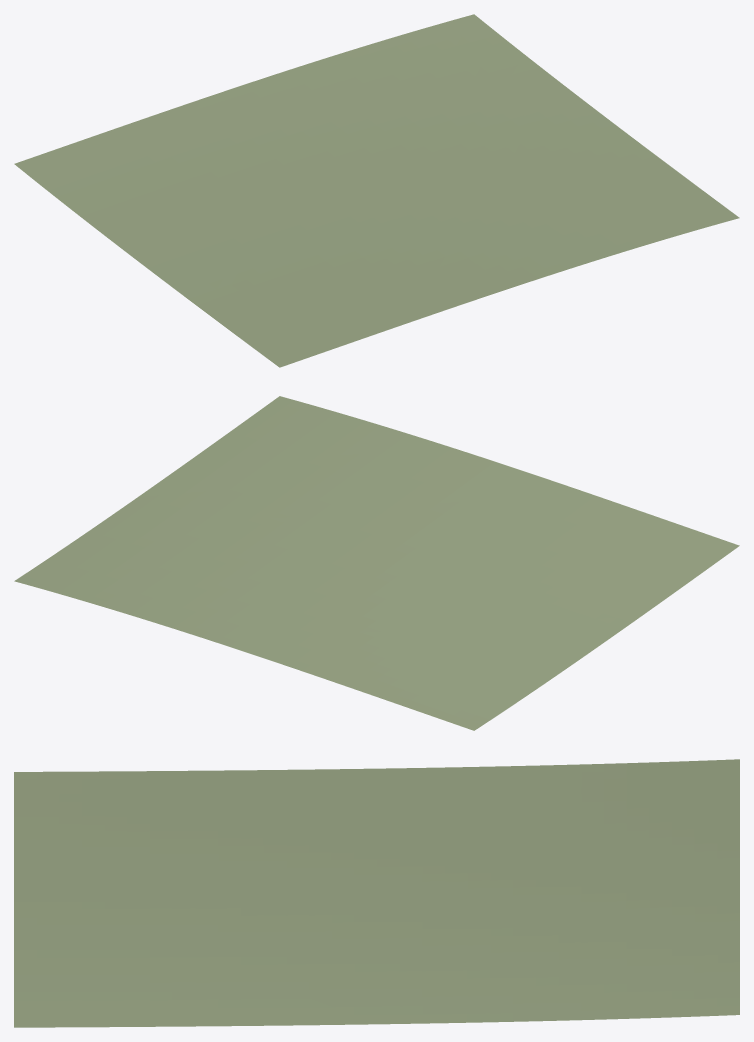
Rendered from valley-1-4.glb.
3 views of the same model, one above another, from view 1: azimuth 30°, elevation 25°; view 2: azimuth 150°, elevation 25°; view 3: azimuth 270°, elevation 25° (orthographic). The views are drawn at different scales.
Parts seen in each view (by area): view 1: valley-1-4; view 2: valley-1-4; view 3: valley-1-4.
Boxes of the visible parts, x1,y1,x2,y2 form: valley-1-4: (14, 14, 739, 367); valley-1-4: (14, 396, 739, 730); valley-1-4: (14, 759, 739, 1027).
Size of the model in its own units: 256 by 24.82 by 256.
